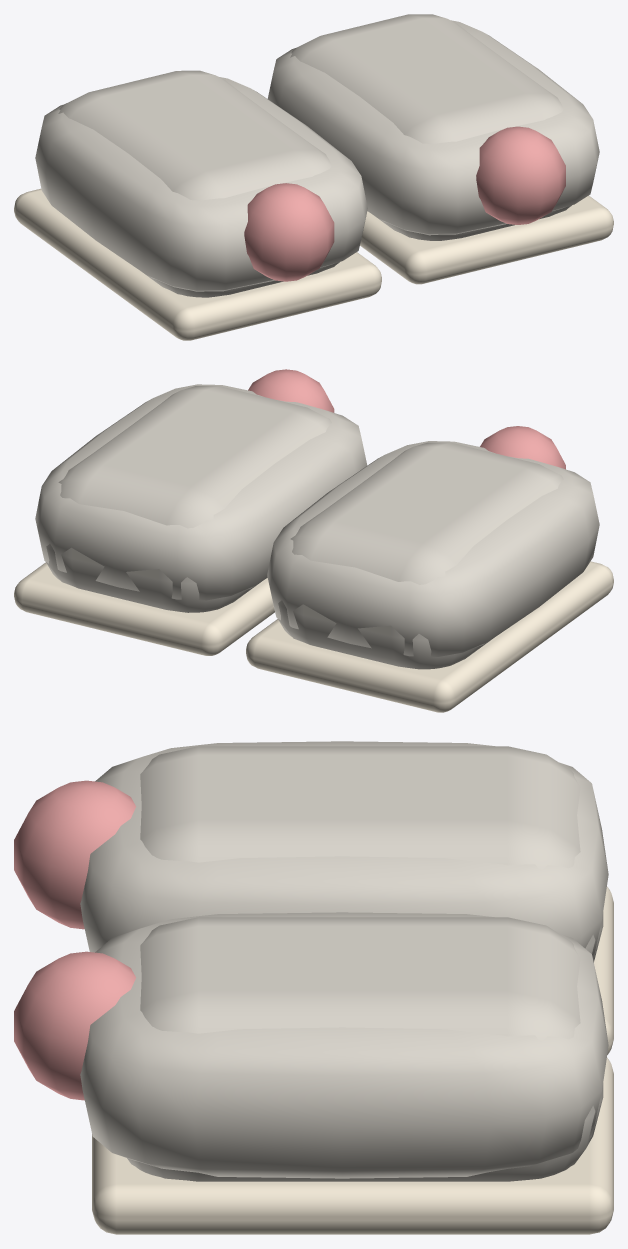
File: embroidered_shoes.glb
The picture shows the model from 3 angles, top to bottom: view 1: azimuth 30°, elevation 25°; view 2: azimuth 150°, elevation 25°; view 3: azimuth 270°, elevation 25°; orthographic projection. The views are drawn at different scales.
Visible parts, largest first — view 1: embroidered_shoes_LegL, embroidered_shoes_LegR; view 2: embroidered_shoes_LegL, embroidered_shoes_LegR; view 3: embroidered_shoes_LegR, embroidered_shoes_LegL.
Boxes of the visible parts, box(x1,y1,x2,y2) form: embroidered_shoes_LegL: box(14, 70, 381, 340); embroidered_shoes_LegR: box(267, 14, 613, 284); embroidered_shoes_LegL: box(246, 426, 613, 712); embroidered_shoes_LegR: box(14, 369, 367, 655); embroidered_shoes_LegR: box(14, 912, 613, 1234); embroidered_shoes_LegL: box(14, 741, 613, 1054).
Size of the model in its own units: 0.37 by 0.1075 by 0.2816.
